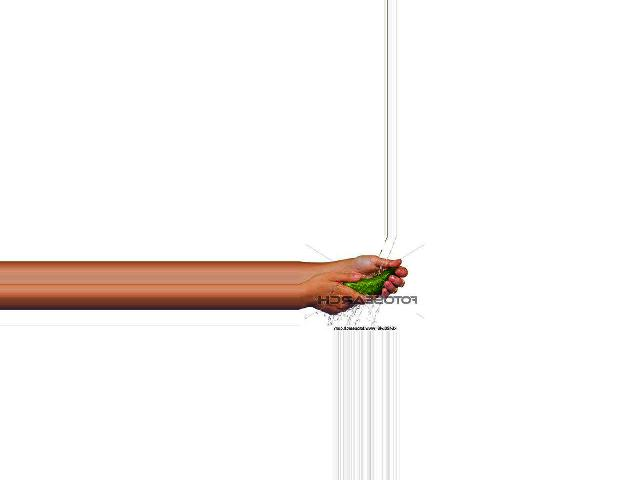cucumber: (341, 267, 397, 296)
